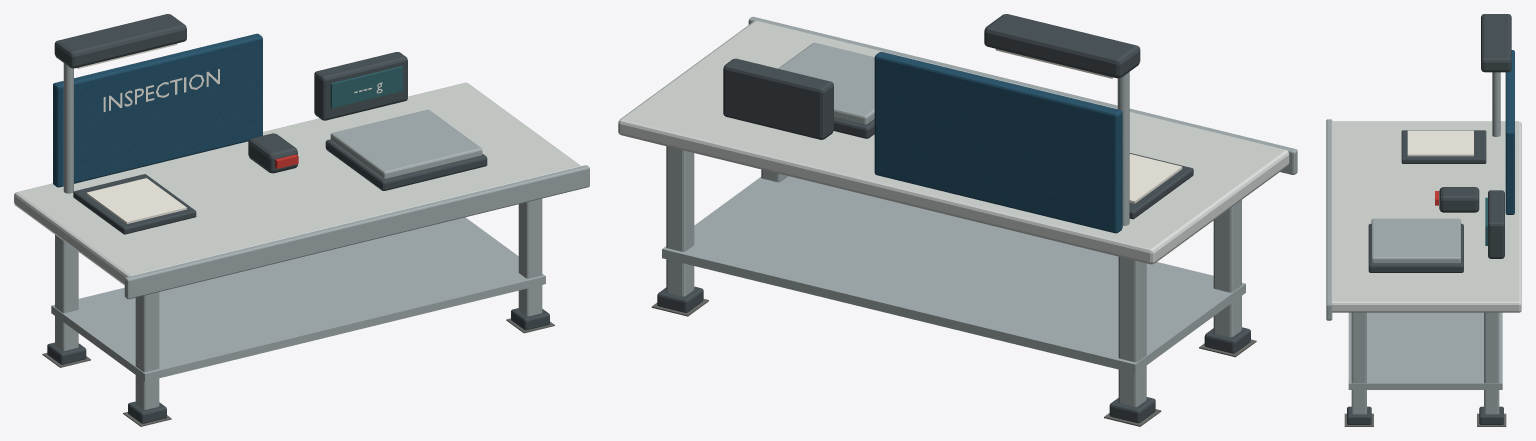
Rendered from inspection_bench.glb.
The picture shows the model from 3 angles, left to right: view 1: azimuth 30°, elevation 25°; view 2: azimuth 150°, elevation 25°; view 3: azimuth 270°, elevation 25°; orthographic projection. The views are drawn at different scales.
Parts seen in each view (by area): view 1: Brushed Steel, Warm Galvanized Sheet, Blue Painted Steel PBR, Charcoal Metal, Label Stock, Standby LCD, Opaque Contact Detail; view 2: Brushed Steel, Warm Galvanized Sheet, Blue Painted Steel PBR, Charcoal Metal, Label Stock, Opaque Contact Detail; view 3: Warm Galvanized Sheet, Brushed Steel, Charcoal Metal, Label Stock, Blue Painted Steel PBR, Opaque Contact Detail.
Part boxes in pixels (left/top/right/bottom): Brushed Steel: left=51, top=63, right=589, bottom=409; Warm Galvanized Sheet: left=14, top=82, right=581, bottom=285; Blue Painted Steel PBR: left=53, top=33, right=262, bottom=187; Charcoal Metal: left=47, top=14, right=549, bottom=423; Label Stock: left=77, top=43, right=382, bottom=223; Standby LCD: left=330, top=66, right=403, bottom=108; Opaque Contact Detail: left=42, top=318, right=554, bottom=426; Brushed Steel: left=662, top=16, right=1297, bottom=406; Warm Galvanized Sheet: left=618, top=20, right=1289, bottom=264; Blue Painted Steel PBR: left=874, top=52, right=1122, bottom=233; Charcoal Metal: left=657, top=14, right=1250, bottom=423; Label Stock: left=995, top=49, right=1182, bottom=203; Opaque Contact Detail: left=651, top=299, right=1256, bottom=426; Warm Galvanized Sheet: left=1331, top=121, right=1521, bottom=312; Brushed Steel: left=1326, top=72, right=1502, bottom=414; Charcoal Metal: left=1347, top=14, right=1511, bottom=424; Label Stock: left=1407, top=130, right=1473, bottom=156; Blue Painted Steel PBR: left=1505, top=50, right=1514, bottom=214; Opaque Contact Detail: left=1344, top=413, right=1506, bottom=426.
Size of the model in its own units: 2.85 by 1.82 by 1.27.
Materials: 8 (1 with a texture image).
